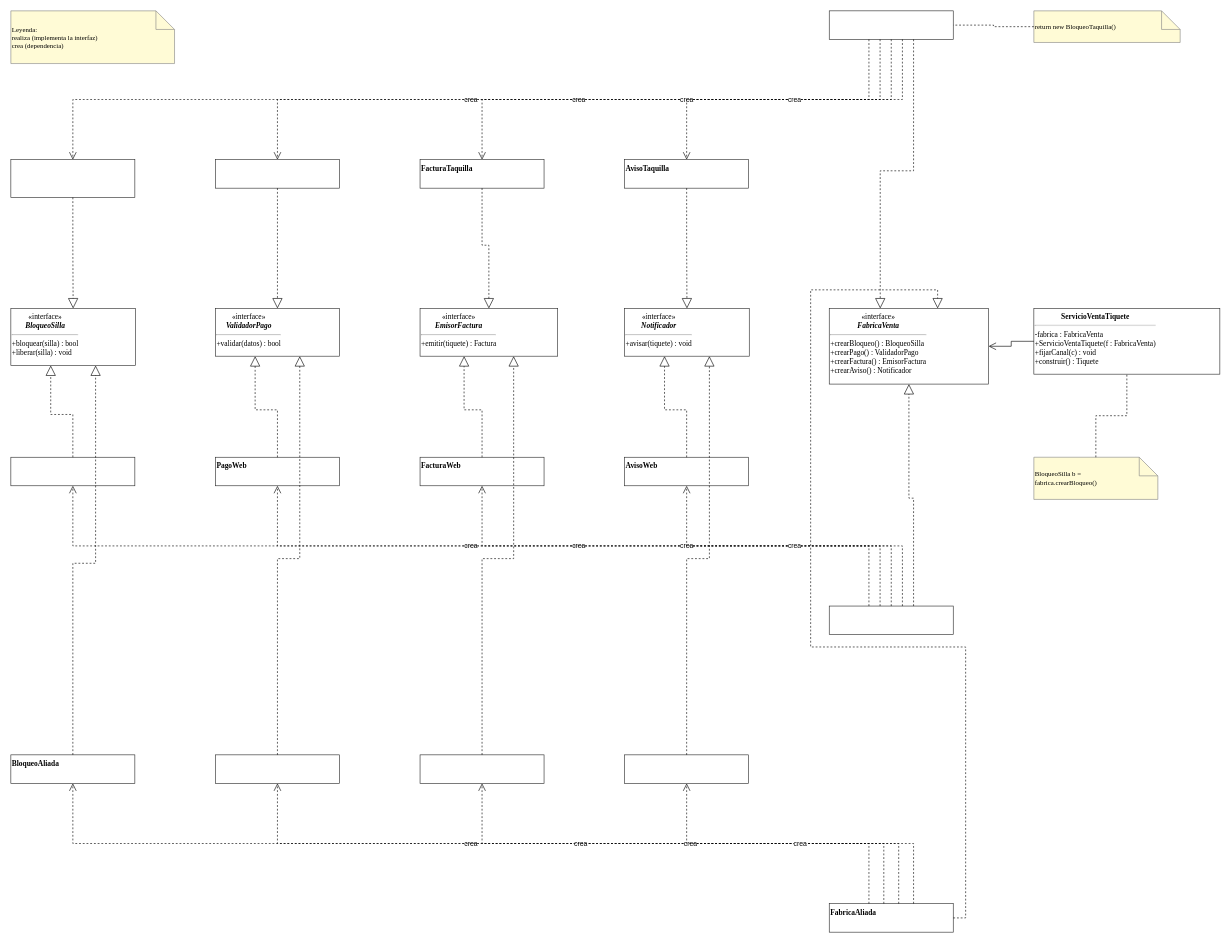
Image size: 1231x943. Some labels were removed from this diagram. The box of each missing label's shape, as (x1, y1, x2, y2) in pixels:
AvisoAliada: (624, 754, 749, 783)
BloqueoTaquilla -tiempoSeg : int = 180: (10, 159, 135, 197)
BloqueoWeb: (10, 457, 135, 486)
FabricaTaquilla: (829, 10, 953, 39)
FabricaWeb: (829, 605, 953, 635)
FacturaAliada: (419, 754, 544, 783)
PagoAliada: (215, 754, 339, 783)
PagoTaquilla: (215, 159, 339, 188)
